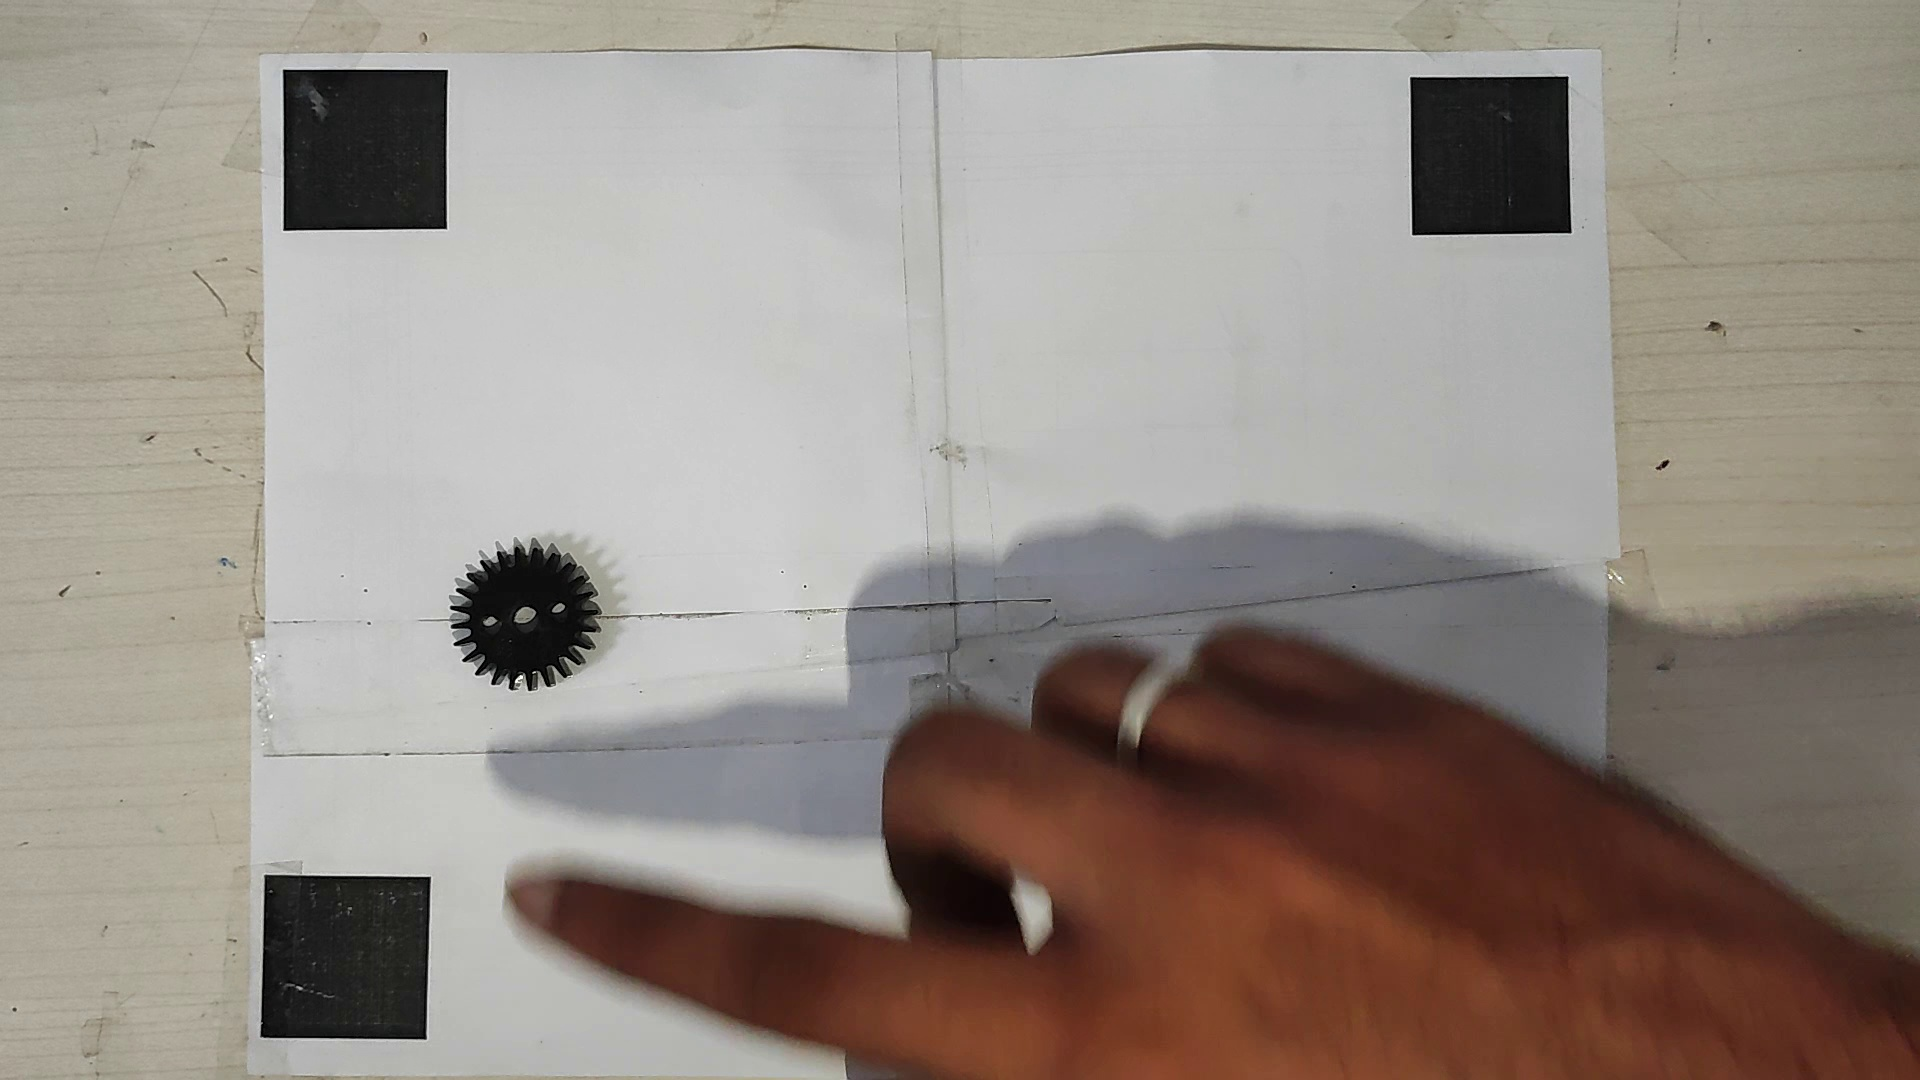Gear: (448, 535, 600, 692)
